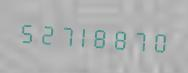eight: (93, 19, 111, 54), (112, 21, 130, 55)
five: (17, 14, 35, 48)
one: (74, 18, 92, 52)
seven: (55, 17, 73, 51), (131, 22, 149, 56)
two: (36, 16, 54, 50)
zero: (150, 23, 168, 58)
